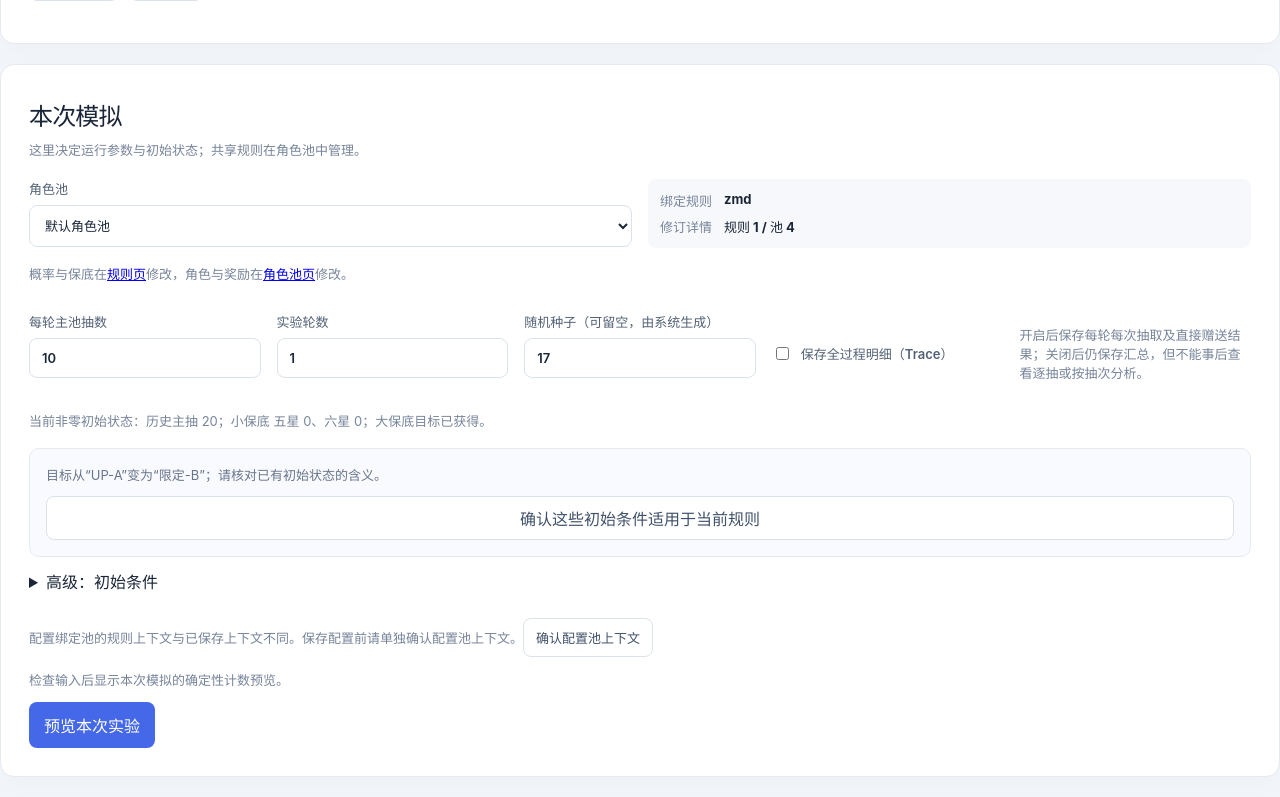
it: NewExperiment › requires explicit context confirmation when an obtained UP target changes
(page scrolled)
Expected: the text "目标从“UP-A”变为“限定-B”；请核对已有初始状态的含义。" is shown, x1=46 y1=467 x2=387 y2=483
Click the button "预览本次实验".
click(92, 725)  # box x1=29 y1=702 x2=155 y2=748
(page scrolled)
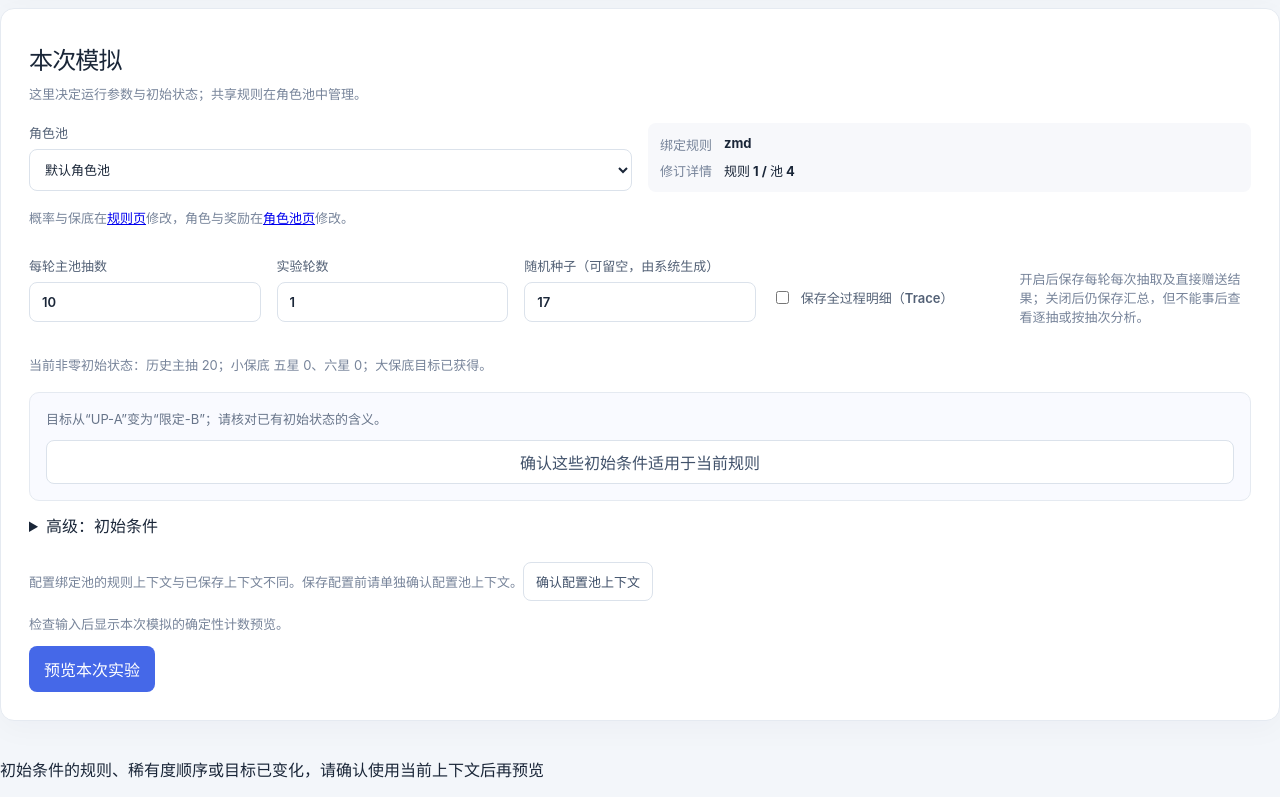
Result: the message "初始条件的规则、稀有度顺序或目标已变化，请确认使用当前上下文后再预览" is shown at x1=0 y1=760 x2=544 y2=780
